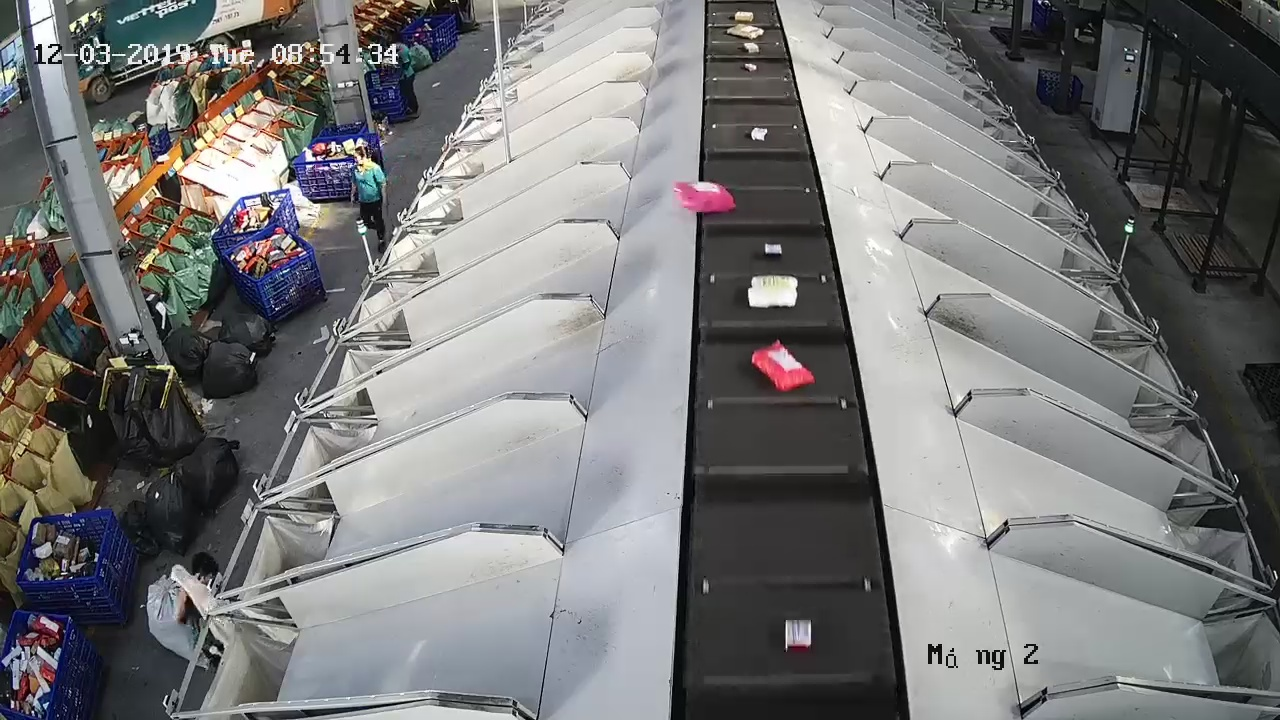parcel: (749, 338, 816, 393), (672, 179, 738, 214), (746, 273, 800, 310), (783, 617, 814, 655), (763, 241, 784, 259)
